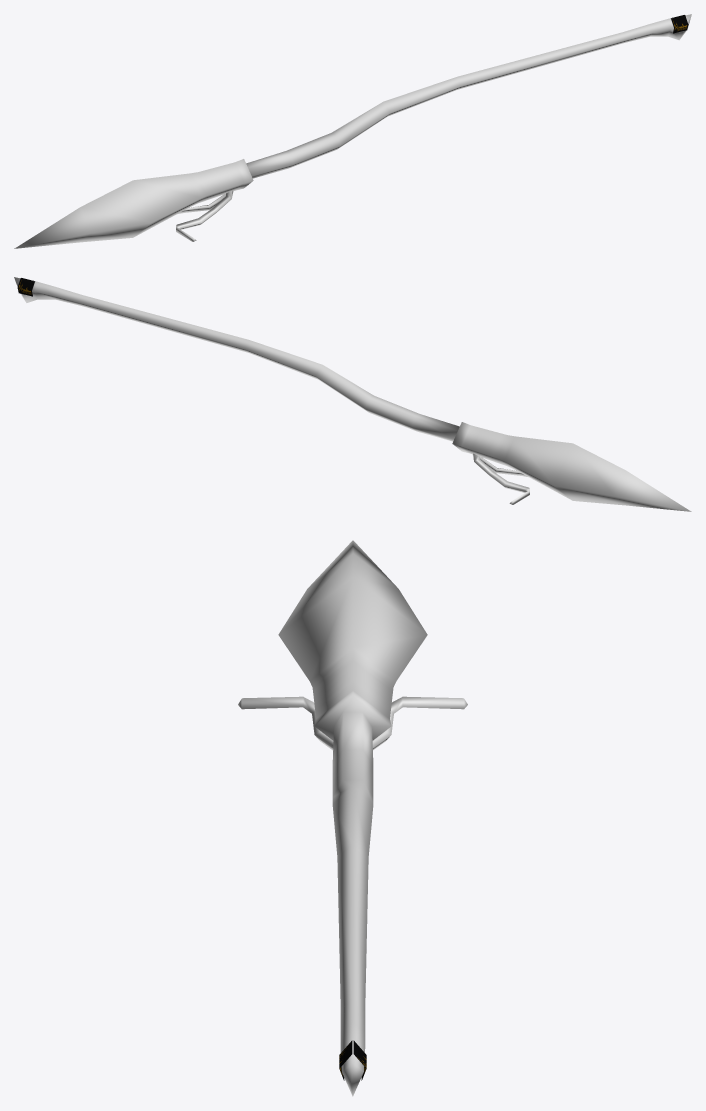
Rendered from Nimbus 2000.fbx.
The picture shows the model from 3 angles, top to bottom: view 1: azimuth 30°, elevation 25°; view 2: azimuth 150°, elevation 25°; view 3: azimuth 270°, elevation 25°; orthographic projection. The views are drawn at different scales.
Visible parts, largest first — view 1: Nimbus, Foot Thingies; view 2: Nimbus, Foot Thingies; view 3: Nimbus, Foot Thingies.
Boxes of the visible parts, x1,y1,x2,y2 form: Nimbus: [14, 14, 691, 248]; Foot Thingies: [176, 190, 233, 241]; Nimbus: [14, 277, 691, 511]; Foot Thingies: [472, 453, 529, 504]; Nimbus: [278, 540, 427, 1096]; Foot Thingies: [238, 696, 467, 750].
Size of the model in its own units: 383 by 47.81 by 56.35.
